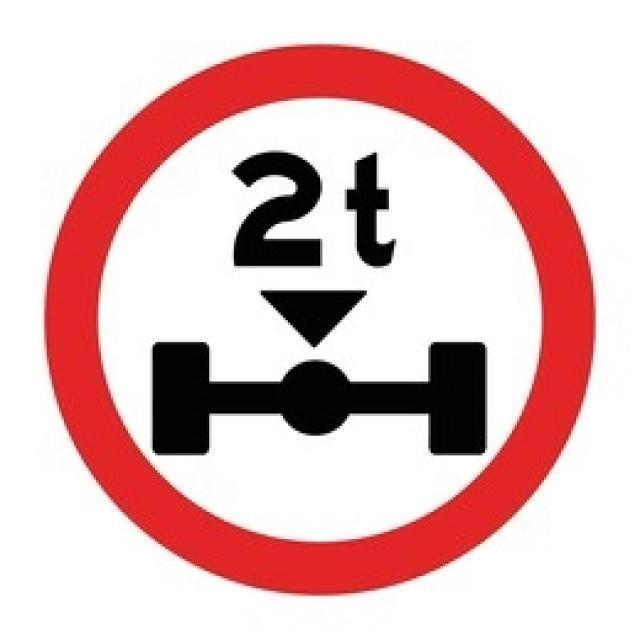axle load limit: (45, 47, 594, 599)
